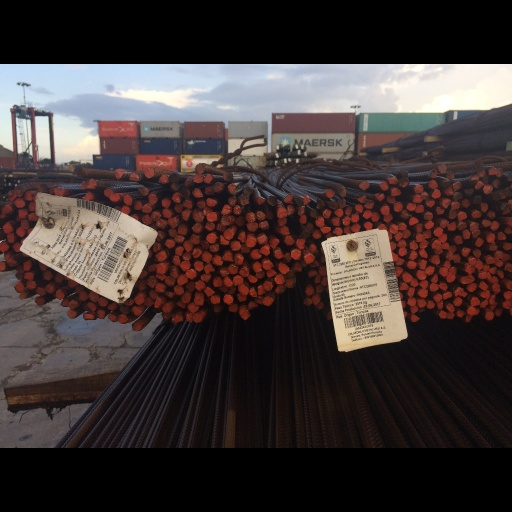dipstick: (81, 191, 94, 201), (193, 212, 204, 223), (222, 251, 233, 262), (290, 249, 301, 260), (171, 312, 183, 322), (233, 253, 243, 265), (156, 263, 166, 274), (156, 251, 167, 261), (37, 183, 48, 193), (156, 219, 167, 229), (168, 217, 178, 228), (172, 192, 183, 202), (192, 222, 202, 233), (195, 163, 205, 174), (221, 215, 231, 226), (202, 252, 212, 263), (266, 195, 276, 206), (278, 262, 288, 273), (295, 238, 305, 249), (276, 207, 287, 217), (402, 272, 412, 283), (3, 222, 12, 234), (246, 222, 258, 231), (174, 285, 184, 295), (165, 276, 175, 286), (186, 269, 196, 279), (186, 281, 196, 291), (188, 303, 198, 313), (194, 296, 204, 306), (77, 167, 87, 177), (144, 168, 154, 178), (141, 203, 151, 213), (141, 215, 151, 225), (161, 198, 171, 208), (213, 182, 223, 192), (193, 261, 203, 271), (219, 235, 229, 245), (231, 241, 241, 251), (223, 294, 233, 304), (257, 235, 267, 245), (260, 245, 270, 255), (292, 262, 302, 272), (277, 216, 287, 226), (359, 180, 369, 190), (2, 205, 13, 214), (89, 291, 98, 302), (117, 314, 128, 323), (147, 276, 156, 287), (180, 261, 191, 270), (148, 193, 157, 204), (158, 174, 169, 183), (182, 210, 191, 221), (206, 197, 217, 206), (192, 188, 203, 197), (181, 187, 190, 198), (221, 204, 230, 215), (224, 229, 233, 240), (236, 216, 245, 227), (246, 211, 255, 222), (466, 283, 477, 292), (8, 190, 16, 202), (15, 199, 25, 208), (18, 209, 27, 219), (0, 242, 9, 252), (14, 282, 23, 292), (26, 280, 36, 289), (36, 286, 45, 296), (45, 284, 54, 294), (55, 273, 64, 283), (55, 289, 64, 299), (98, 297, 108, 306), (120, 305, 130, 314), (132, 306, 142, 315), (135, 295, 144, 305), (162, 302, 171, 312), (155, 283, 165, 292), (177, 276, 187, 285), (196, 280, 205, 290), (150, 212, 160, 221), (174, 203, 183, 213), (190, 235, 200, 244), (207, 213, 217, 222), (184, 178, 193, 188), (204, 173, 213, 183), (228, 184, 237, 194), (205, 222, 215, 231), (207, 234, 217, 243), (213, 277, 222, 287), (213, 256, 222, 266), (228, 264, 238, 273), (233, 276, 243, 285), (224, 277, 233, 287), (241, 311, 251, 320), (274, 275, 284, 284), (275, 285, 285, 294), (251, 250, 261, 259), (247, 237, 256, 247), (239, 196, 249, 205), (243, 186, 252, 196), (270, 239, 279, 249), (284, 236, 294, 245), (280, 226, 290, 235), (351, 223, 361, 232), (380, 205, 389, 215), (431, 189, 441, 198), (399, 178, 409, 187), (398, 169, 408, 178), (424, 220, 434, 229), (416, 271, 426, 280), (430, 255, 440, 264), (470, 297, 480, 306), (502, 242, 512, 251), (473, 160, 483, 169), (304, 254, 313, 264), (132, 322, 143, 330), (223, 172, 234, 180), (263, 297, 274, 305), (238, 231, 246, 242), (400, 211, 411, 219), (443, 187, 454, 195), (406, 261, 417, 269), (170, 266, 177, 278), (20, 220, 29, 229), (43, 271, 52, 280), (69, 300, 78, 309), (67, 309, 76, 318), (87, 302, 96, 311), (149, 290, 158, 299), (205, 287, 214, 296), (54, 187, 63, 196), (110, 193, 119, 202), (168, 228, 177, 237), (169, 173, 178, 182), (170, 182, 179, 191), (178, 226, 187, 235), (193, 174, 202, 183), (240, 286, 249, 295), (264, 281, 273, 290), (239, 267, 248, 276), (241, 244, 250, 253), (256, 211, 265, 220), (274, 250, 283, 259), (283, 194, 292, 203), (295, 197, 304, 206), (312, 230, 321, 239), (393, 202, 402, 211), (363, 210, 372, 219), (365, 200, 374, 209), (414, 184, 423, 193), (428, 180, 437, 189), (441, 178, 450, 187), (408, 251, 417, 260), (409, 241, 418, 250), (419, 240, 428, 249), (431, 240, 440, 249), (439, 267, 448, 276), (419, 280, 428, 289), (446, 303, 455, 312), (457, 211, 466, 220), (453, 297, 462, 306), (483, 184, 492, 193), (500, 203, 509, 212), (303, 297, 312, 306), (185, 312, 193, 322), (193, 314, 203, 322), (165, 240, 175, 248), (175, 246, 183, 256), (182, 293, 190, 303), (28, 212, 38, 220), (24, 191, 32, 201), (88, 178, 96, 188), (115, 169, 123, 179), (103, 189, 113, 197), (138, 187, 148, 195), (162, 209, 172, 217), (184, 241, 192, 251), (205, 266, 215, 274), (201, 274, 211, 282), (248, 302, 258, 310), (249, 287, 257, 297), (262, 261, 272, 269), (285, 279, 295, 287), (233, 205, 241, 215), (259, 221, 269, 229), (316, 199, 324, 209), (338, 187, 346, 197), (316, 217, 324, 227), (388, 177, 398, 185), (363, 222, 373, 230), (377, 223, 387, 231), (383, 214, 393, 222), (389, 223, 397, 233), (397, 222, 407, 230), (412, 195, 422, 203), (442, 198, 450, 208), (423, 212, 433, 220), (418, 259, 426, 269), (418, 289, 428, 297), (442, 292, 452, 300), (446, 274, 456, 282), (471, 210, 481, 218), (466, 307, 476, 315), (481, 219, 491, 227), (287, 204, 294, 215), (299, 230, 310, 237), (16, 228, 25, 236), (35, 297, 44, 305), (108, 312, 116, 321), (145, 297, 153, 306), (153, 242, 161, 251), (182, 252, 191, 260), (124, 195, 132, 204), (175, 235, 184, 243), (197, 200, 205, 209), (204, 186, 213, 194), (193, 249, 201, 258), (210, 244, 219, 252), (228, 304, 237, 312), (237, 293, 246, 301), (253, 262, 261, 271), (256, 196, 264, 205), (286, 269, 294, 278), (309, 208, 317, 217), (323, 209, 331, 218), (334, 227, 343, 235), (332, 217, 340, 226), (334, 209, 343, 217), (351, 213, 359, 222), (379, 182, 388, 190), (375, 193, 384, 201), (371, 212, 379, 221), (409, 217, 418, 225), (425, 199, 434, 207), (415, 205, 424, 213), (429, 169, 437, 178), (438, 164, 446, 173), (435, 206, 444, 214), (415, 233, 424, 241), (434, 227, 442, 236), (440, 219, 448, 228), (448, 210, 456, 219), (453, 192, 462, 200), (419, 249, 427, 258), (394, 267, 402, 276), (425, 266, 434, 274), (430, 274, 438, 283), (430, 283, 438, 292), (407, 298, 416, 306), (410, 314, 419, 322), (417, 299, 426, 307), (433, 294, 442, 302), (439, 282, 447, 291), (462, 230, 470, 239), (457, 222, 466, 230), (462, 199, 471, 207), (464, 188, 473, 196), (473, 195, 481, 204), (480, 203, 488, 212), (469, 222, 478, 230), (475, 237, 483, 246), (473, 249, 481, 258), (461, 276, 470, 284), (453, 288, 462, 296), (479, 282, 488, 290), (494, 251, 503, 259), (489, 242, 497, 251), (497, 231, 505, 240), (491, 221, 499, 230), (474, 181, 483, 189), (492, 179, 500, 188), (497, 189, 505, 198), (318, 267, 326, 276), (311, 295, 319, 304), (7, 233, 14, 243), (6, 260, 16, 267), (24, 261, 31, 271), (68, 280, 78, 287), (124, 298, 134, 305), (138, 281, 145, 291), (161, 312, 171, 319), (139, 270, 146, 280), (173, 256, 180, 266), (210, 296, 220, 303), (129, 173, 139, 180), (156, 231, 163, 241), (266, 270, 276, 277), (303, 195, 310, 205), (325, 190, 335, 197), (338, 199, 345, 209), (320, 226, 330, 233), (453, 181, 460, 191), (415, 223, 422, 233), (408, 286, 415, 296), (480, 291, 490, 298), (487, 233, 494, 243), (496, 167, 503, 177), (309, 243, 316, 253), (83, 313, 94, 319), (284, 251, 290, 262), (60, 298, 68, 306), (79, 292, 87, 300), (108, 302, 116, 310), (121, 206, 129, 214), (220, 268, 228, 276), (256, 270, 264, 278), (329, 201, 337, 209), (342, 217, 350, 225), (355, 204, 363, 212), (358, 195, 366, 203), (387, 195, 395, 203), (394, 232, 402, 240), (402, 230, 410, 238), (407, 203, 415, 211), (446, 171, 454, 179), (423, 230, 431, 238), (451, 201, 459, 209), (398, 248, 406, 256), (439, 311, 447, 319), (449, 267, 457, 275), (454, 236, 462, 244), (462, 248, 470, 256), (478, 271, 486, 279), (492, 283, 500, 291), (480, 299, 488, 307), (485, 312, 493, 320), (486, 256, 494, 264), (488, 167, 496, 175), (24, 273, 33, 280), (154, 298, 161, 307), (28, 202, 35, 211), (134, 201, 141, 210), (248, 276, 257, 283), (229, 196, 236, 205), (297, 206, 304, 215), (345, 206, 352, 215), (391, 189, 400, 196), (389, 241, 396, 250), (391, 252, 398, 261), (395, 258, 404, 265), (446, 251, 453, 260), (399, 283, 408, 290), (468, 256, 475, 265), (504, 291, 511, 300), (494, 260, 503, 267), (469, 174, 478, 181), (476, 169, 485, 176), (306, 286, 313, 295), (13, 242, 19, 252), (258, 285, 264, 295), (471, 231, 481, 237), (476, 260, 482, 270), (16, 265, 23, 273), (19, 292, 27, 299), (75, 286, 83, 293), (148, 264, 156, 271), (216, 224, 224, 231), (201, 241, 208, 249), (228, 287, 236, 294), (214, 304, 221, 312), (265, 211, 272, 219), (299, 215, 306, 223), (343, 226, 351, 233), (448, 222, 455, 230), (398, 240, 406, 247), (439, 234, 447, 241), (440, 242, 448, 249), (447, 312, 455, 319), (453, 254, 460, 262), (469, 274, 476, 282), (503, 253, 510, 261), (487, 211, 495, 218), (310, 260, 318, 267), (308, 270, 316, 277), (314, 275, 321, 283), (316, 285, 323, 293), (16, 188, 22, 197), (0, 263, 6, 272), (156, 274, 165, 280), (176, 302, 185, 308), (81, 181, 87, 190), (203, 207, 212, 213), (307, 223, 313, 232), (465, 264, 471, 273), (489, 295, 495, 304), (498, 270, 504, 279), (321, 276, 327, 285), (486, 272, 491, 282), (16, 273, 23, 280), (256, 297, 263, 304), (410, 279, 417, 286), (410, 306, 417, 313), (427, 301, 434, 308), (449, 245, 456, 252), (465, 315, 472, 322), (491, 276, 498, 283), (503, 301, 510, 308), (483, 265, 490, 272), (98, 310, 104, 318), (166, 292, 174, 298), (219, 286, 227, 292), (422, 191, 428, 199), (443, 261, 451, 267), (495, 309, 501, 317), (506, 282, 512, 290), (317, 301, 323, 309), (4, 251, 9, 260), (326, 311, 331, 320), (400, 300, 406, 307), (437, 302, 443, 309), (456, 311, 463, 317), (504, 227, 511, 233), (489, 268, 495, 274), (435, 249, 442, 254), (462, 292, 467, 297)
